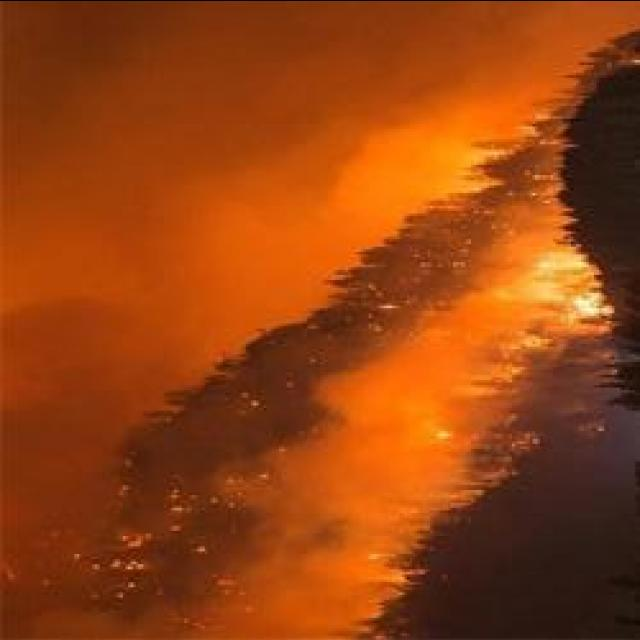fire: (533, 252, 615, 324)
smoke: (319, 376, 485, 501), (218, 546, 400, 640), (336, 117, 494, 214), (463, 267, 553, 342)
